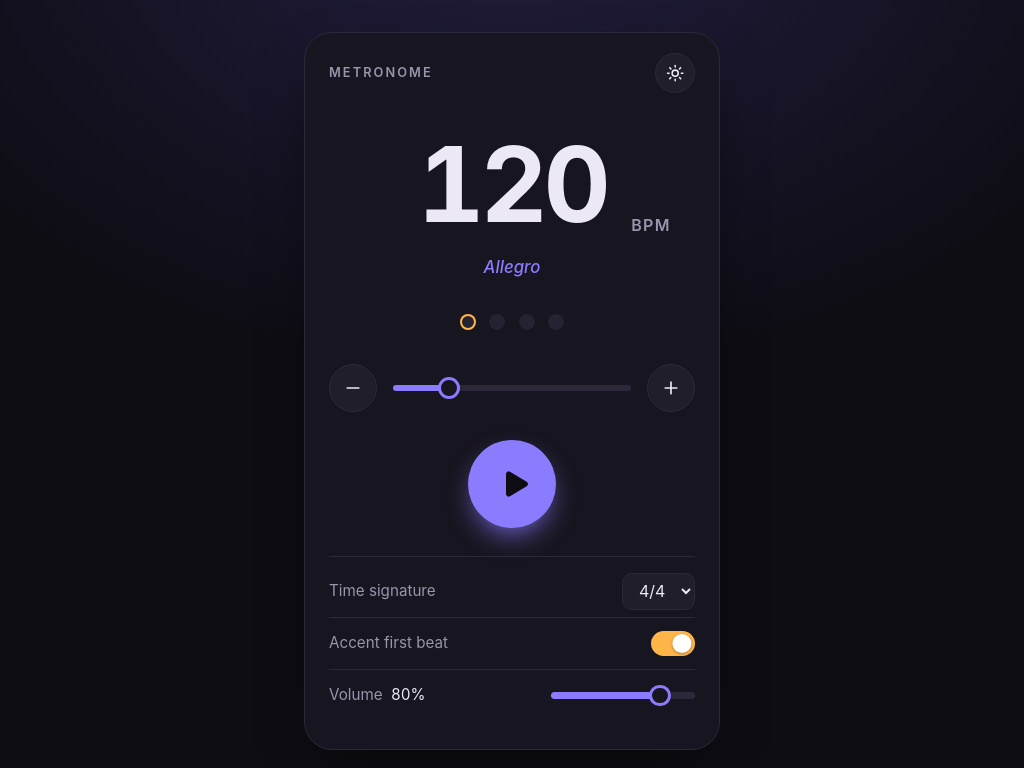
App › starts and stops with the play button
Click the button named "Start" at (512, 484), box [468,440,556,528]
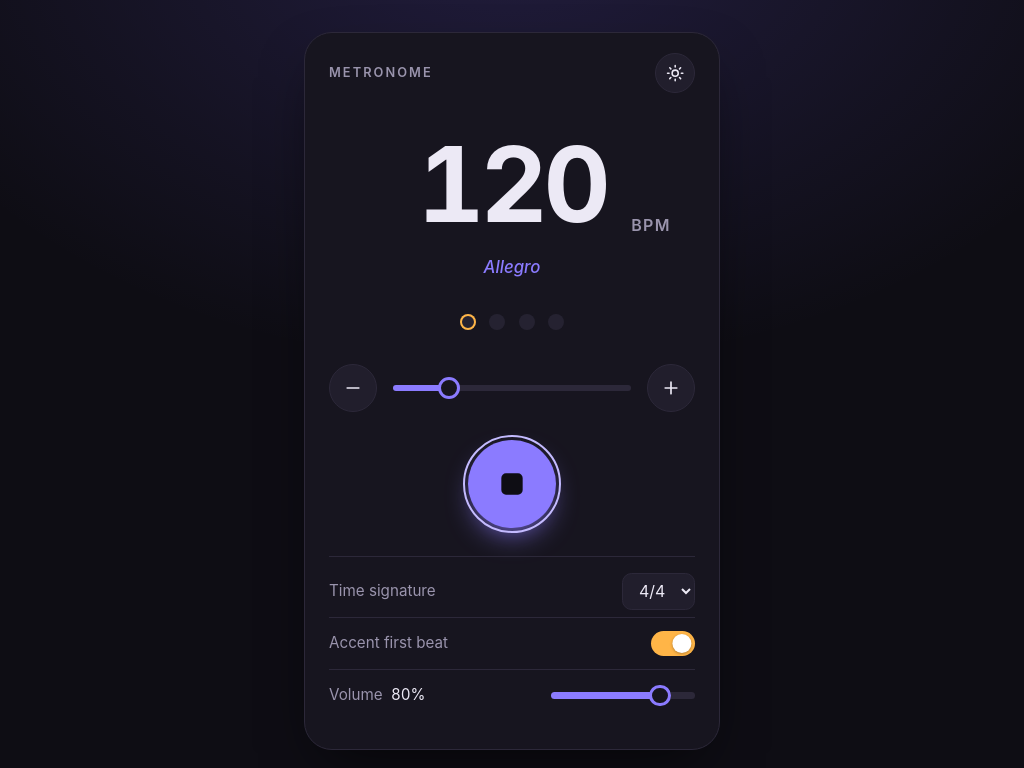
expect the button named "Stop" is shown: met
Click the button named "Stop" at (512, 484), box [468,440,556,528]
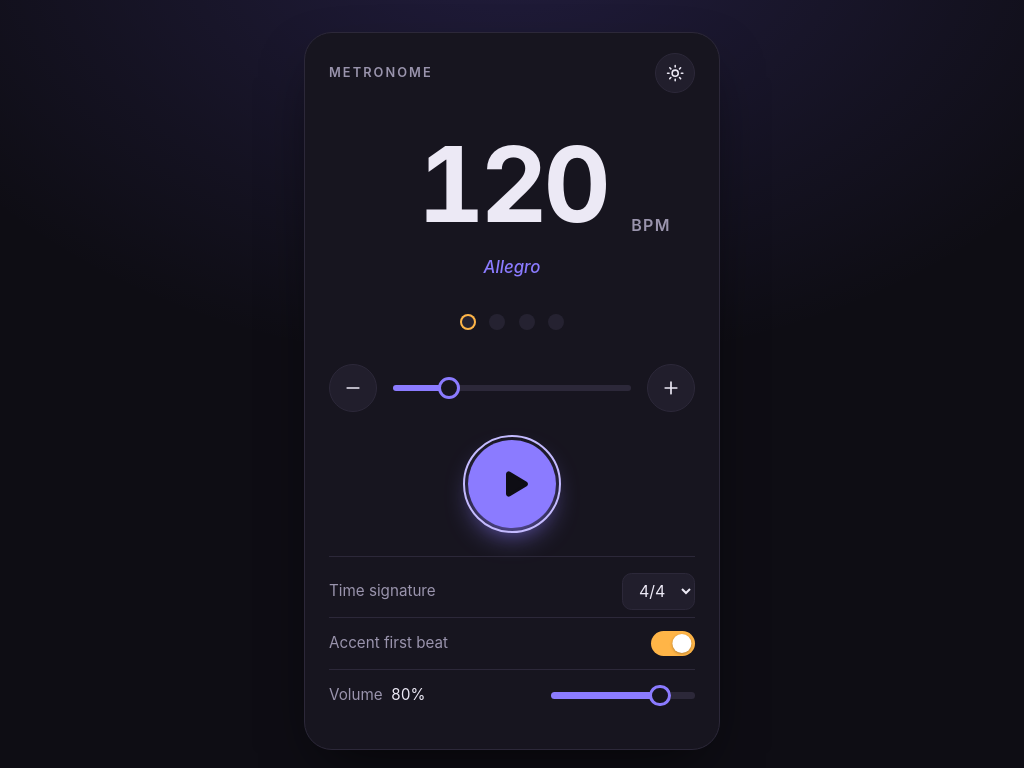
expect the button named "Start" is shown: met, box [468,440,556,528]
